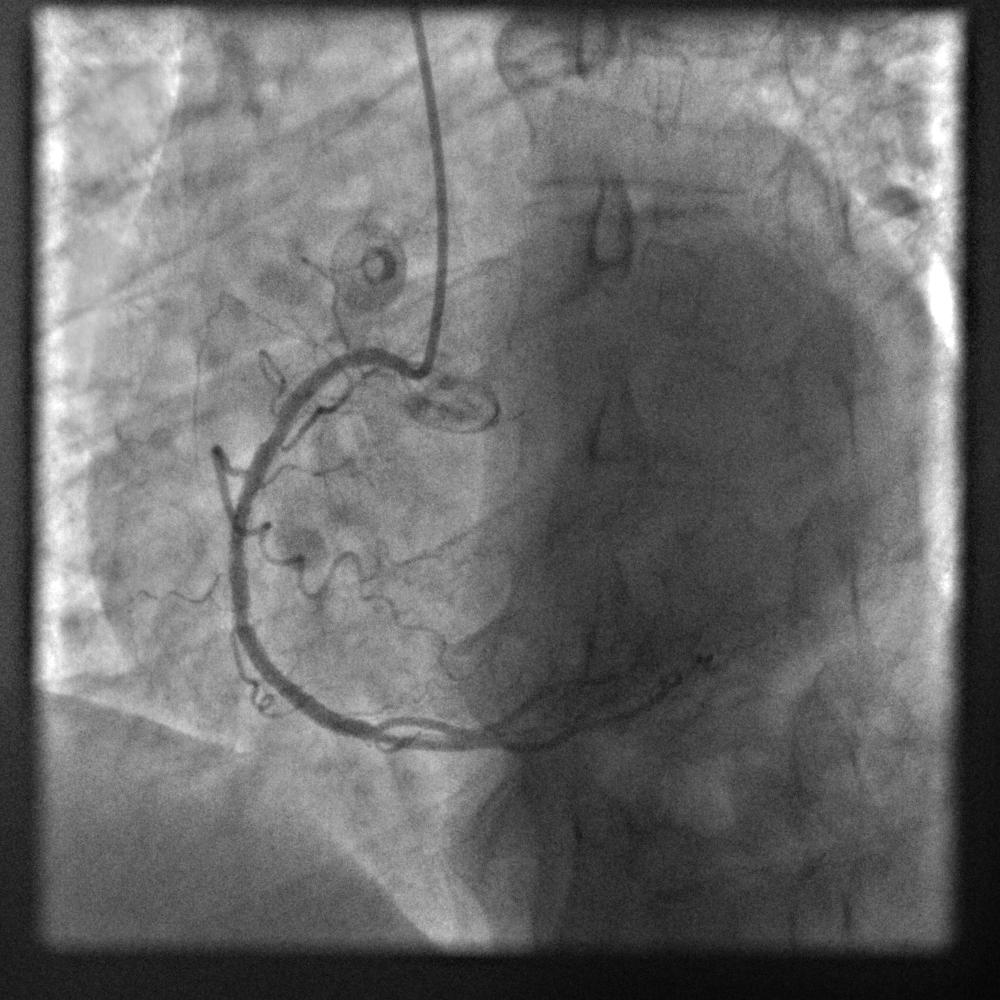Stenosis: (253, 396, 294, 455)
